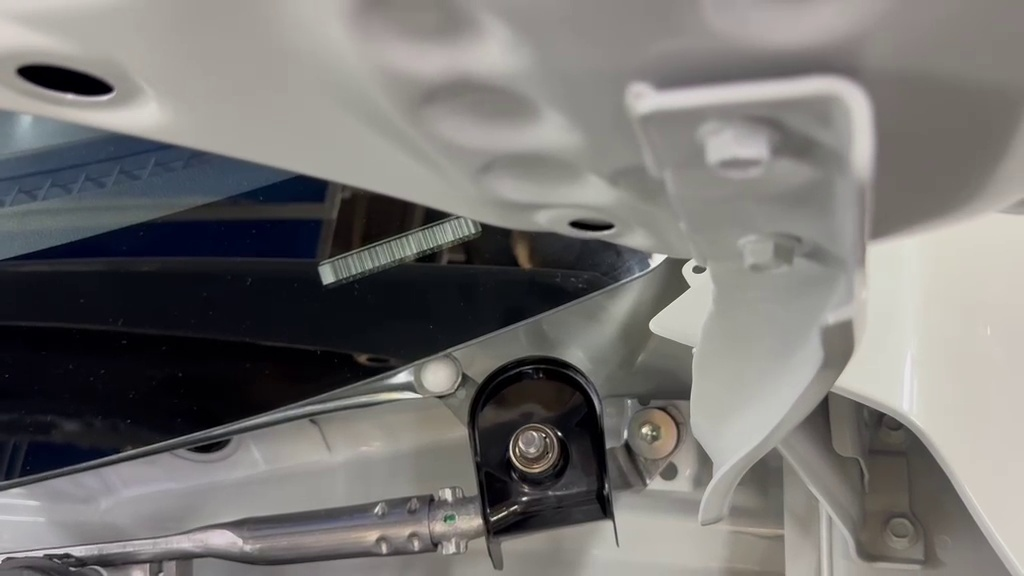barcode: (451, 349, 666, 576)
hinge: (295, 192, 501, 309)
